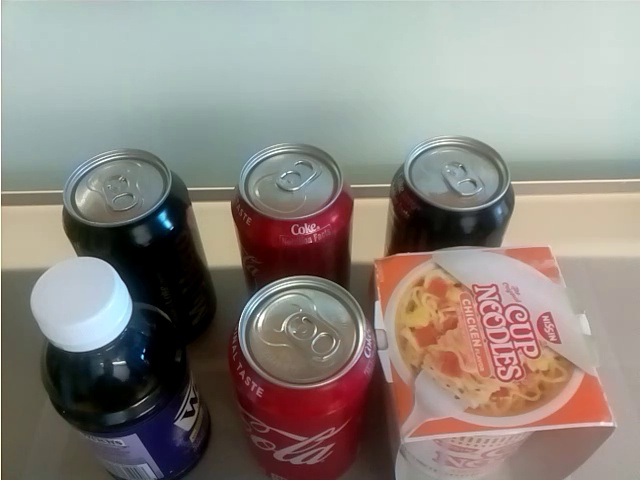cocacola: (235, 274, 376, 478), (232, 144, 356, 288)
cocacola-zero: (383, 132, 519, 248), (57, 151, 203, 256)
juice: (19, 257, 214, 480)
noodles: (369, 243, 621, 475)
